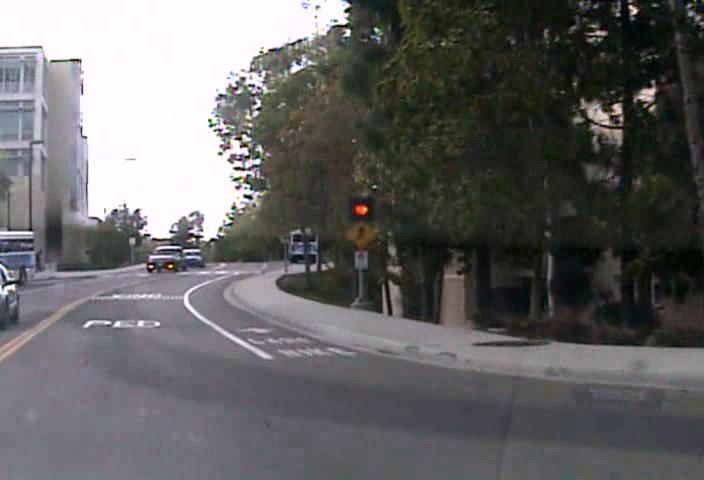pedestrianCrossing: (343, 219, 377, 250)
